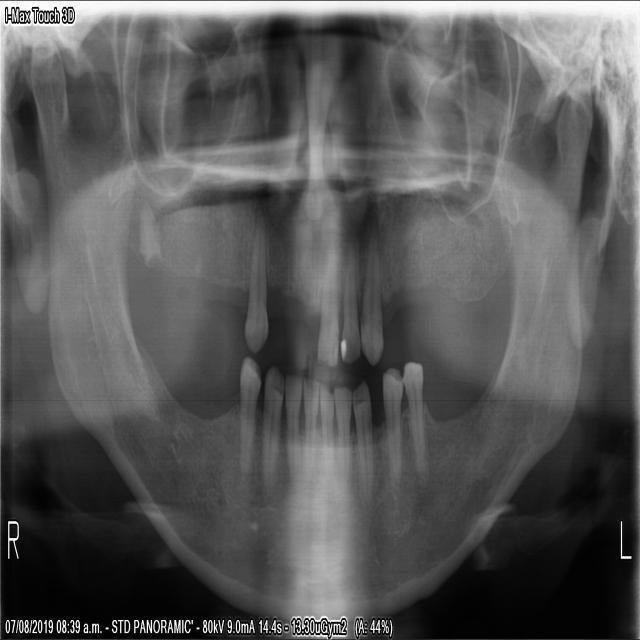LCD: (353, 380, 377, 505)
LCU: (360, 226, 386, 363)
LID: (334, 382, 352, 480), (319, 376, 335, 482)
LIU: (318, 205, 341, 366), (339, 224, 360, 369)
LPMD: (404, 357, 433, 477), (380, 366, 404, 487)
RCD: (258, 363, 284, 496)
RID: (284, 366, 304, 490), (303, 372, 320, 477)
RMU: (244, 205, 269, 354)
RPMD: (238, 354, 262, 482)
